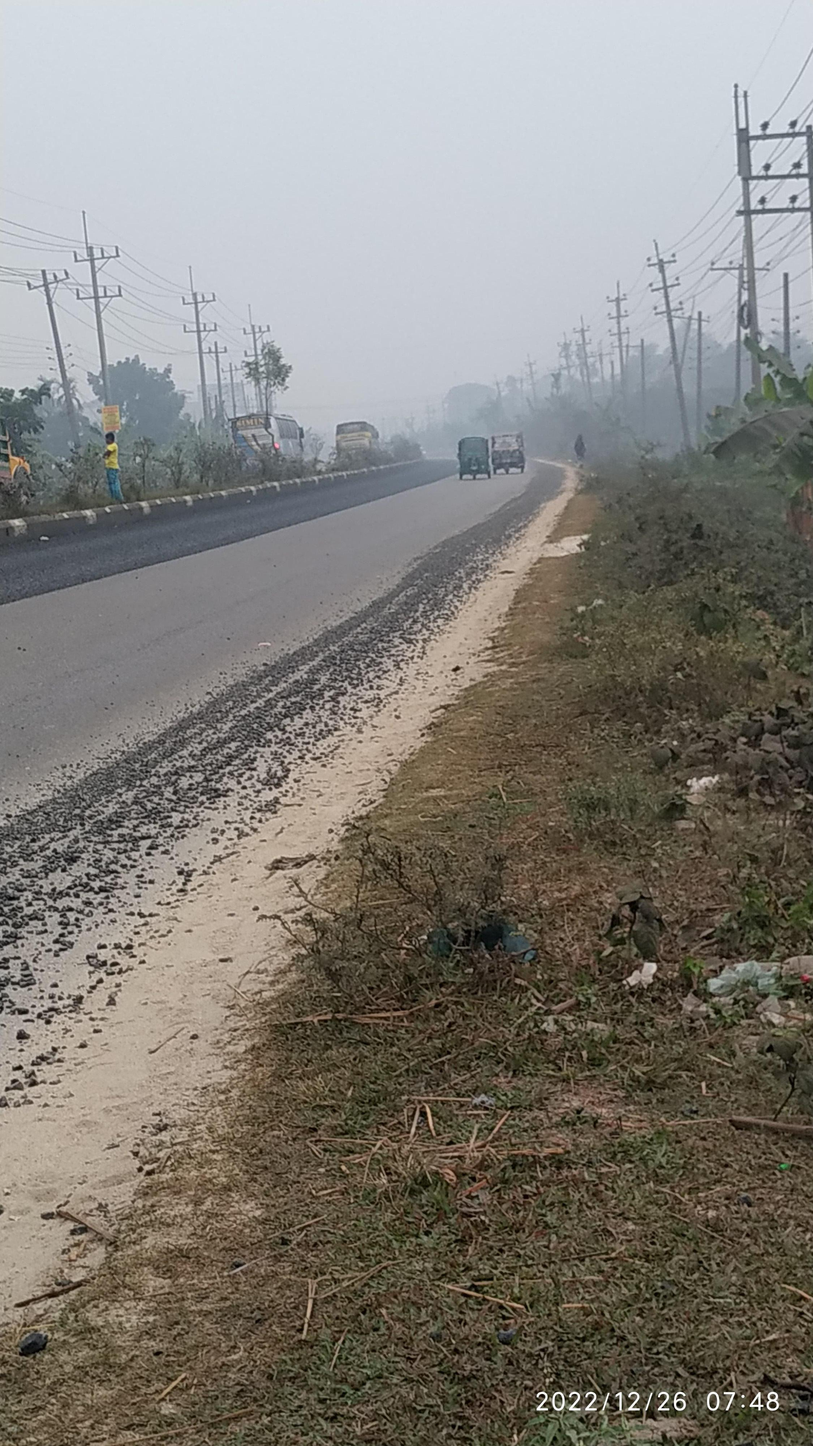Bus: (212, 398, 321, 486), (331, 411, 384, 471)
